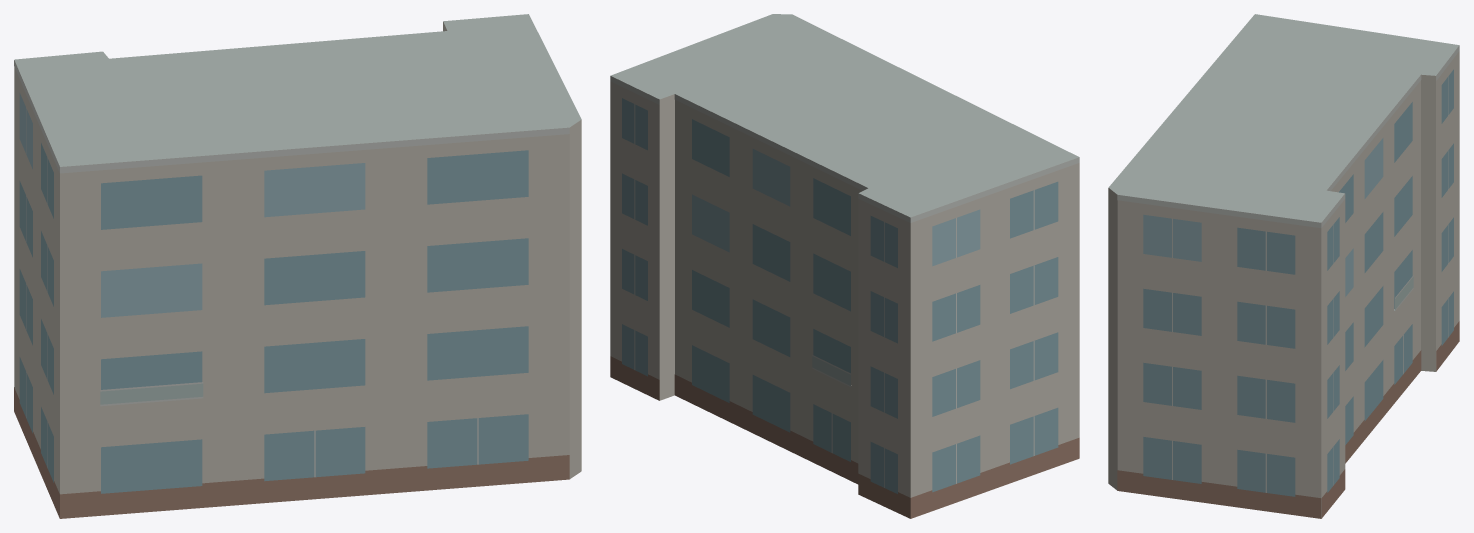
The model's file is survey-upis-32674113.glb.
3 views of the same model, side by side, from view 1: azimuth 30°, elevation 25°; view 2: azimuth 150°, elevation 25°; view 3: azimuth 270°, elevation 25° (orthographic). The views are drawn at different scales.
Parts seen in each view (by area): view 1: survey-upis-32674113.tmp; view 2: survey-upis-32674113.tmp; view 3: survey-upis-32674113.tmp.
Boxes of the visible parts, box(x1,y1,x2,y2) form: survey-upis-32674113.tmp: box(14, 14, 581, 518); survey-upis-32674113.tmp: box(610, 14, 1079, 518); survey-upis-32674113.tmp: box(1108, 14, 1459, 518).
Bounding box in the file's own units: 20.05 × 13.25 × 14.25.
